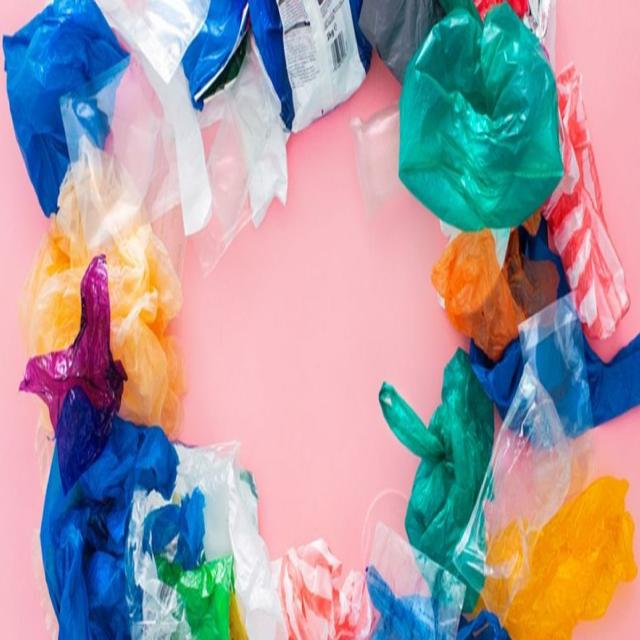Single-layer Plastic: (19, 140, 185, 437), (399, 5, 562, 231), (40, 385, 179, 640), (125, 442, 288, 640), (379, 347, 494, 611), (454, 364, 572, 620), (2, 0, 126, 215), (20, 255, 126, 492), (481, 476, 636, 636), (541, 64, 630, 340), (470, 295, 640, 437), (60, 55, 180, 255), (195, 43, 286, 276), (431, 228, 559, 359), (141, 57, 211, 236), (366, 521, 466, 640), (519, 295, 592, 437), (271, 538, 372, 640), (98, 0, 209, 83), (359, 0, 444, 82)
